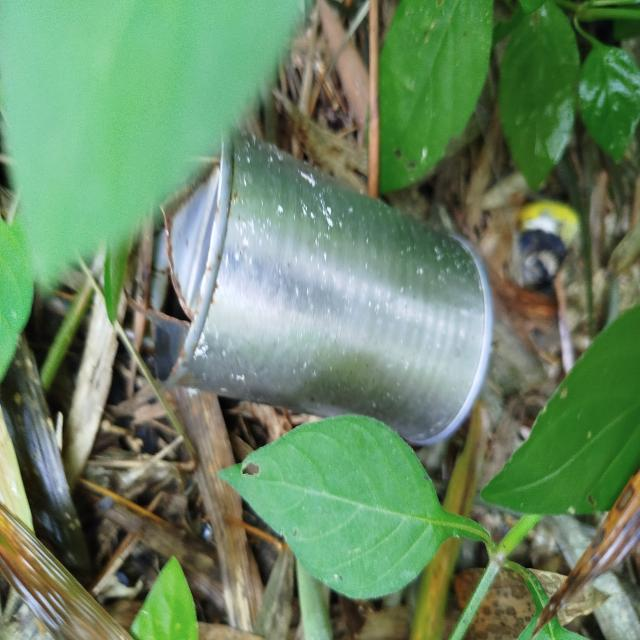metal: (148, 111, 507, 465)
